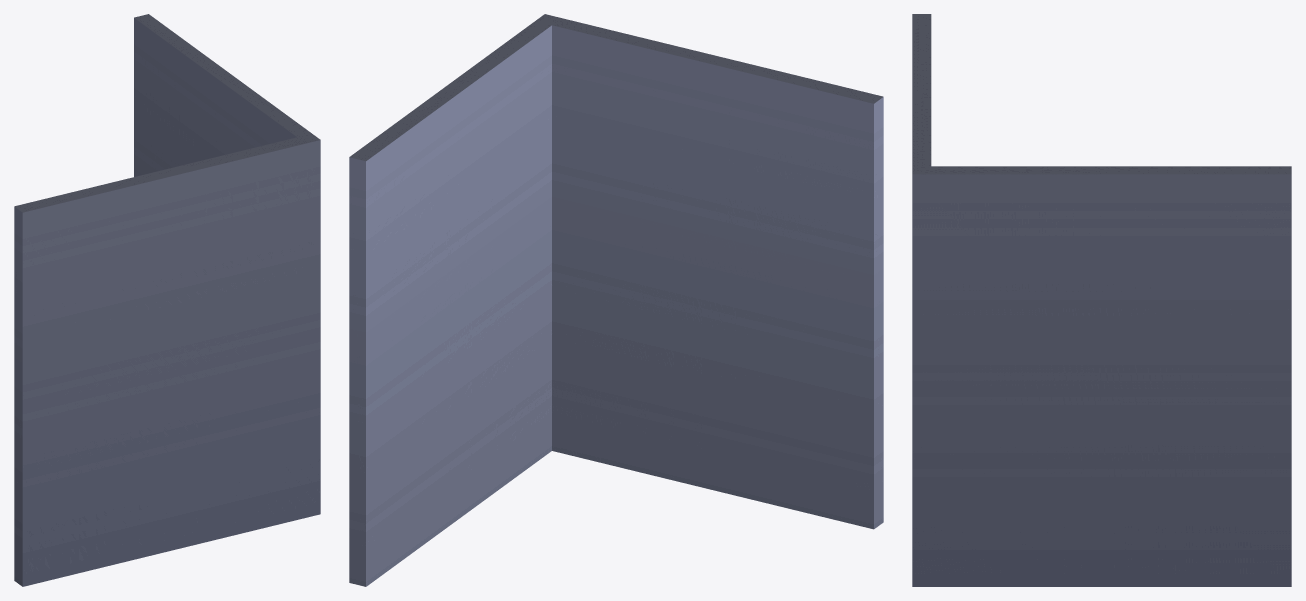
Rendered from wall_corner.glb.
3 renders of one model, left to right at view 1: azimuth 30°, elevation 25°; view 2: azimuth 150°, elevation 25°; view 3: azimuth 270°, elevation 25°, orthographic. The views are drawn at different scales.
Visible parts, largest first — view 1: wall-corner; view 2: wall-corner; view 3: wall-corner.
Boxes of the visible parts, x1,y1,x2,y2 form: wall-corner: [14, 14, 320, 586]; wall-corner: [349, 14, 883, 586]; wall-corner: [912, 14, 1291, 586].
Bounding box in the file's own units: 2 × 2.4 × 2.
1 material, 1 textured.
